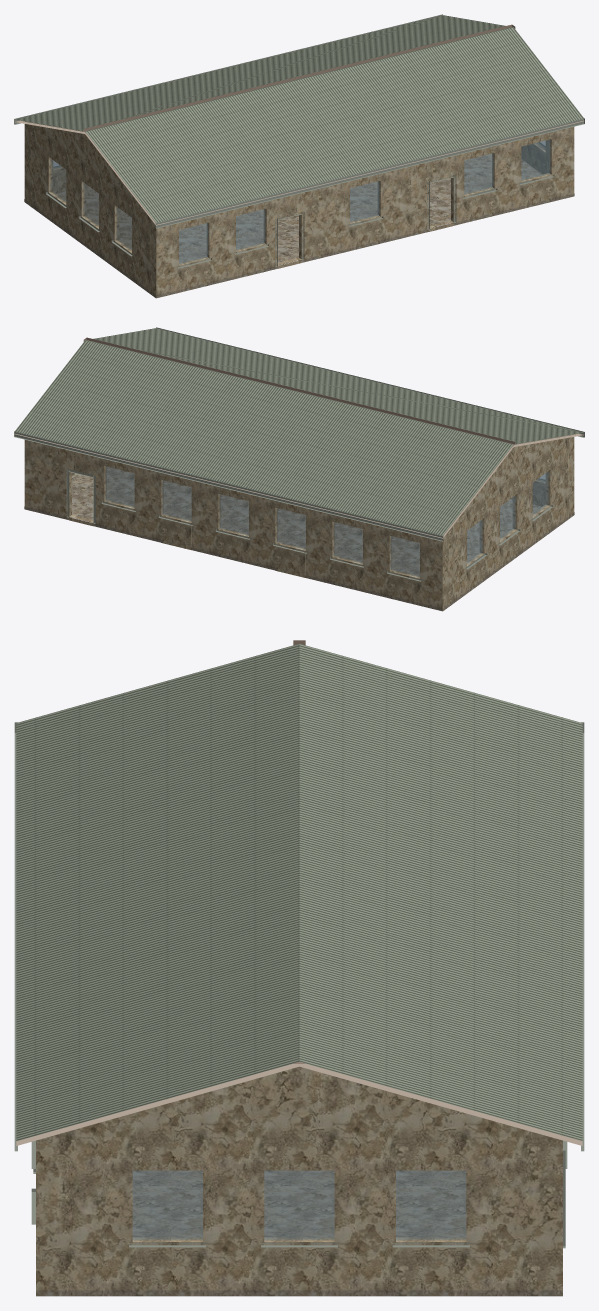
Rendered from mess-hall.zfix-v14.lod1.glb.
The picture shows the model from 3 angles, top to bottom: view 1: azimuth 30°, elevation 25°; view 2: azimuth 150°, elevation 25°; view 3: azimuth 270°, elevation 25°; orthographic projection. The views are drawn at different scales.
Parts seen in each view (by area): view 1: mess-hall; view 2: mess-hall; view 3: mess-hall.
Part boxes in pixels (left/top/right/bottom): mess-hall: left=14, top=14, right=584, bottom=298; mess-hall: left=14, top=327, right=584, bottom=611; mess-hall: left=14, top=640, right=584, bottom=1296.
Bounding box in the file's own units: 22.54 × 6.1 × 12.98.
4 materials, 2 textured.
